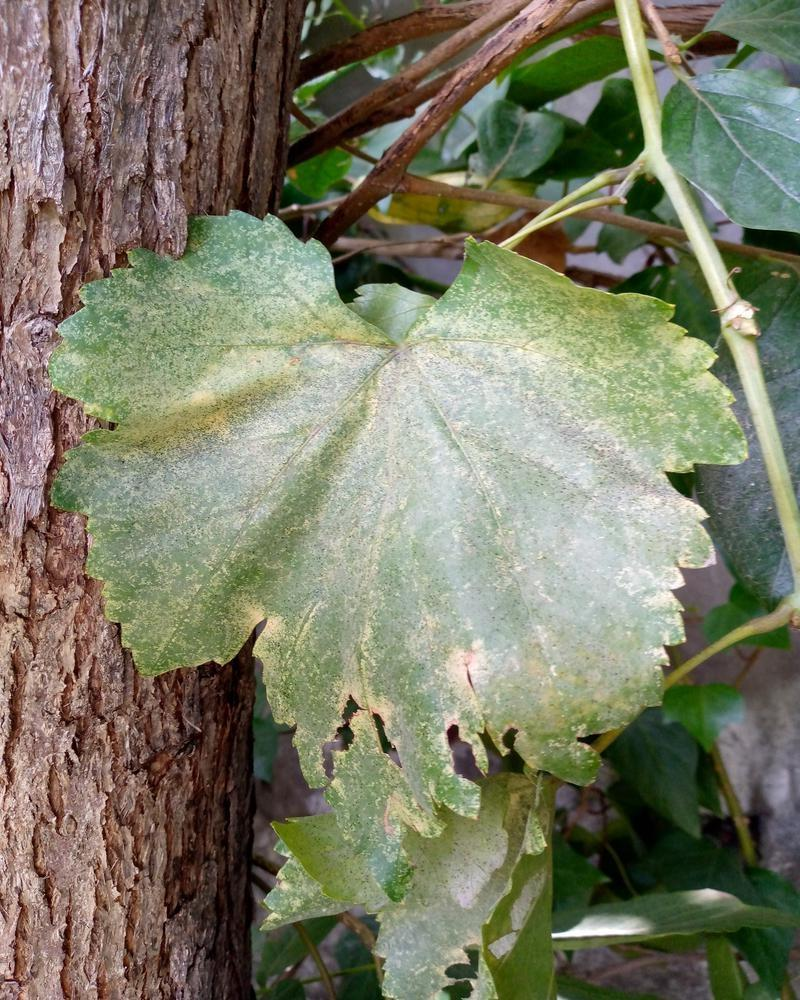Powdery-Mildew: (307, 413, 721, 721), (335, 256, 633, 578), (156, 323, 374, 526), (375, 724, 475, 823), (271, 245, 334, 308), (130, 274, 193, 337), (104, 461, 167, 524), (229, 575, 292, 638), (336, 671, 399, 734), (553, 630, 557, 636)
